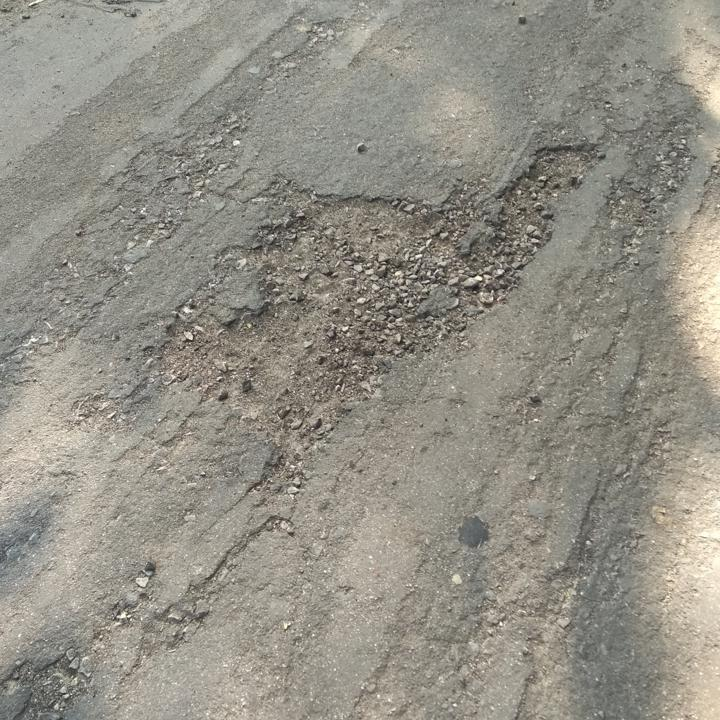pothole: (144, 168, 511, 475), (492, 141, 605, 305)
